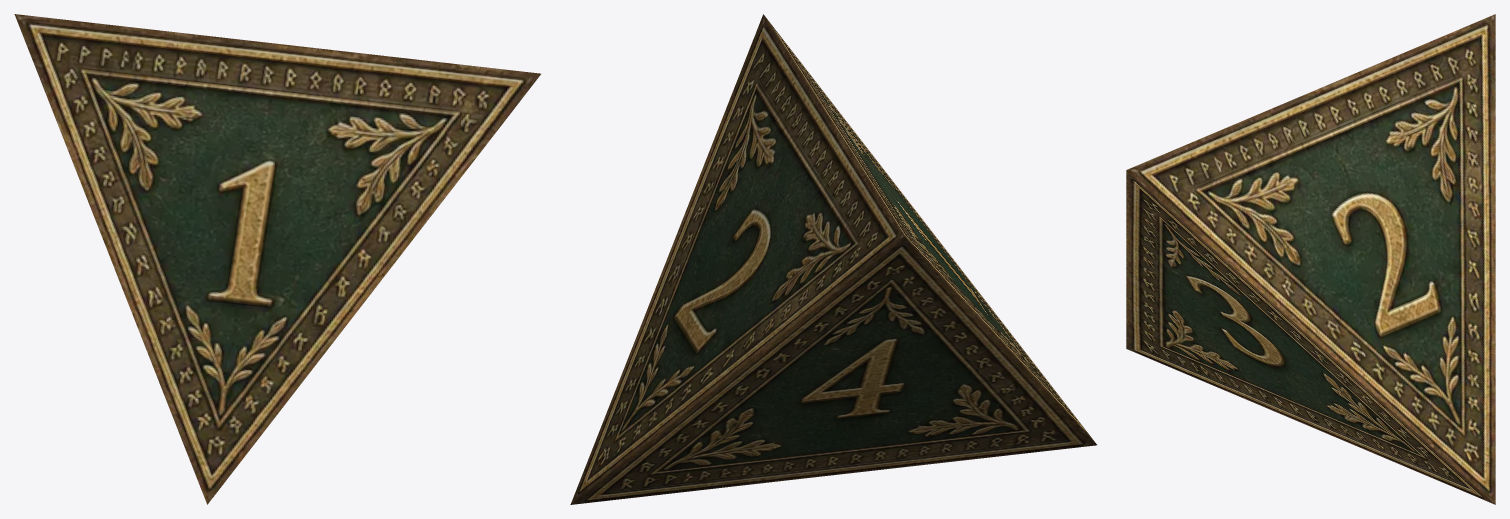
The picture shows the model from 3 angles, left to right: view 1: azimuth 30°, elevation 25°; view 2: azimuth 150°, elevation 25°; view 3: azimuth 270°, elevation 25°; orthographic projection. The views are drawn at different scales.
Parts seen in each view (by area): view 1: Runeleaf_D4; view 2: Runeleaf_D4; view 3: Runeleaf_D4.
Boxes of the visible parts, left/top/right/bottom form: Runeleaf_D4: left=14, top=14, right=540, bottom=504; Runeleaf_D4: left=570, top=14, right=1096, bottom=504; Runeleaf_D4: left=1126, top=14, right=1495, bottom=504.
Size of the model in its own units: 0.8314 by 0.8314 by 0.8314.
1 material, 1 textured.
